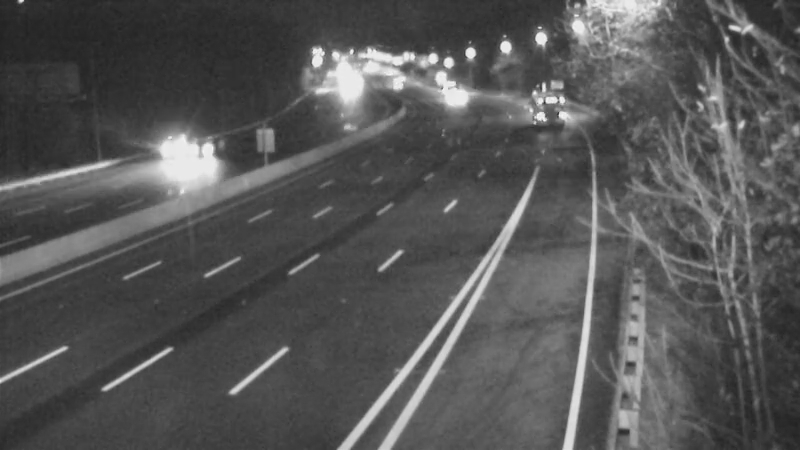vehicle: (123, 111, 203, 191), (158, 110, 238, 190), (423, 58, 473, 108), (429, 74, 479, 124), (512, 80, 562, 130)
